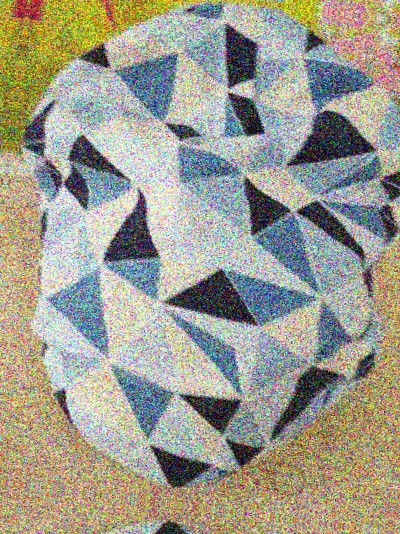Hat: (0, 0, 400, 497), (0, 0, 19, 444), (0, 512, 360, 534), (45, 0, 400, 16)
